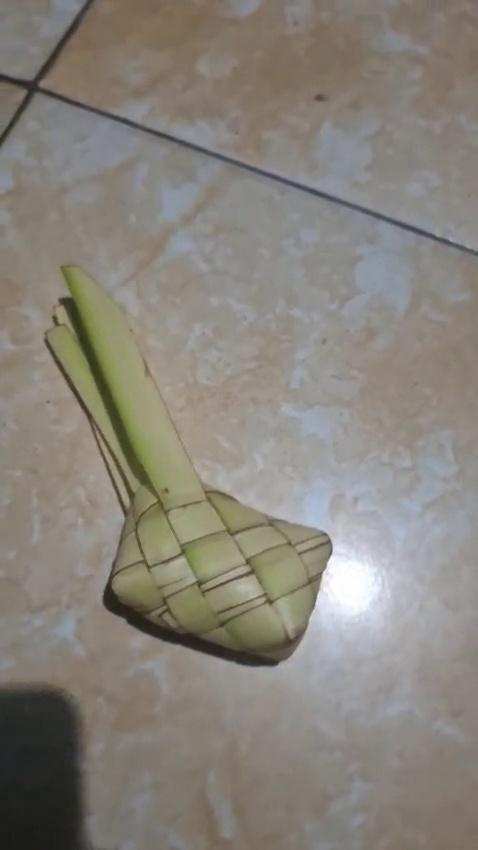Tipat Bantal: (42, 270, 339, 676)
